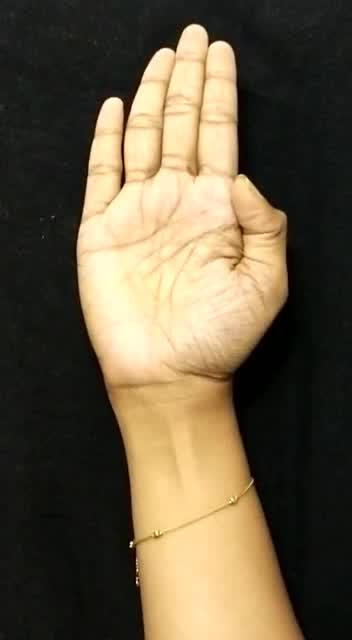pataka: (53, 9, 300, 435)
